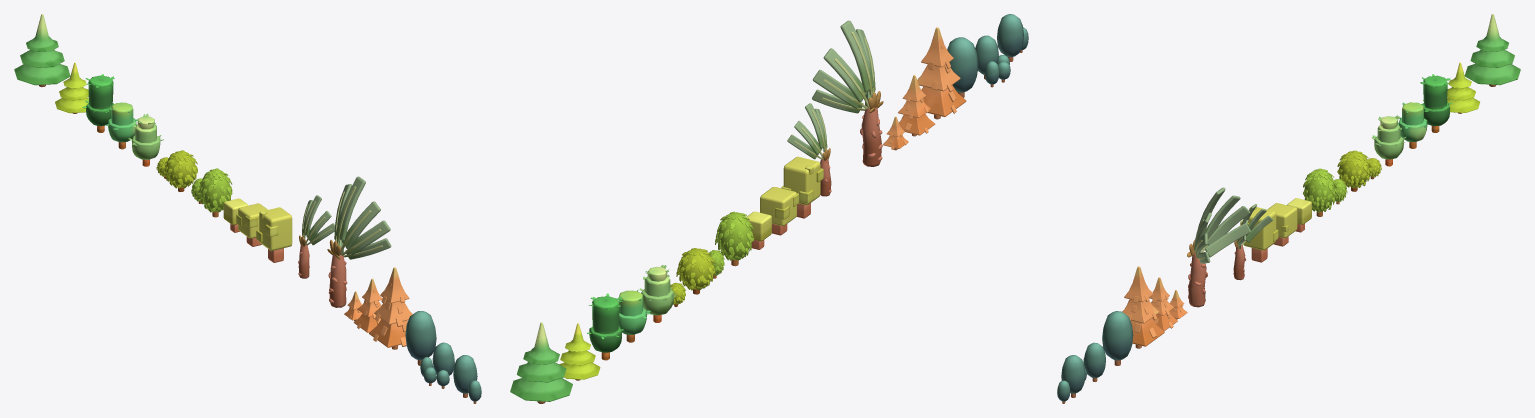
File: cay.fbx
3 views of the same model, side by side, from view 1: azimuth 30°, elevation 25°; view 2: azimuth 150°, elevation 25°; view 3: azimuth 330°, elevation 25° (orthographic). The views are drawn at different scales.
Visible parts, largest first — view 1: polySurface140, polySurface487, polySurface258, polySurface501, polySurface188, polySurface483, polySurface276, polySurface396, polySurface282, polySurface452, polySurface485, polySurface491 (+5 smaller); view 2: polySurface140, polySurface487, polySurface258, polySurface483, polySurface501, polySurface188, polySurface396, polySurface452, polySurface485, polySurface510, polySurface491, polySurface276 (+5 smaller); view 3: polySurface140, polySurface487, polySurface258, polySurface276, polySurface483, polySurface396, polySurface452, polySurface485, polySurface501, polySurface491, polySurface467, polySurface285 (+5 smaller).
Part boxes in pixels (<box>): polySurface140: <box>327,176,391,307</box>; polySurface487: <box>14,14,70,87</box>; polySurface258: <box>369,267,412,349</box>; polySurface501: <box>256,207,292,262</box>; polySurface188: <box>298,195,334,278</box>; polySurface483: <box>82,74,114,132</box>; polySurface276: <box>405,311,436,365</box>; polySurface396: <box>197,168,232,217</box>; polySurface282: <box>420,342,454,388</box>; polySurface452: <box>128,113,163,166</box>; polySurface485: <box>163,150,197,191</box>; polySurface491: <box>55,62,88,113</box>; polySurface140: <box>812,20,883,166</box>; polySurface487: <box>510,322,572,403</box>; polySurface258: <box>917,27,966,119</box>; polySurface483: <box>587,293,623,360</box>; polySurface501: <box>781,156,823,218</box>; polySurface188: <box>787,103,831,196</box>; polySurface396: <box>715,211,753,266</box>; polySurface452: <box>639,265,676,322</box>; polySurface485: <box>676,248,715,294</box>; polySurface510: <box>760,187,799,235</box>; polySurface491: <box>559,323,600,380</box>; polySurface276: <box>947,37,978,97</box>; polySurface140: <box>1187,187,1250,307</box>; polySurface487: <box>1464,14,1520,86</box>; polySurface258: <box>1122,266,1164,348</box>; polySurface276: <box>1102,311,1133,365</box>; polySurface483: <box>1420,74,1452,132</box>; polySurface396: <box>1303,168,1337,216</box>; polySurface452: <box>1372,115,1405,166</box>; polySurface485: <box>1337,150,1372,191</box>; polySurface501: <box>1240,207,1278,262</box>; polySurface491: <box>1447,62,1479,113</box>; polySurface467: <box>1397,102,1427,148</box>; polySurface285: <box>1057,355,1085,403</box>.
Size of the model in its own units: 4.15 by 8.31 by 55.6.
Materials: 1 (1 with a texture image).
